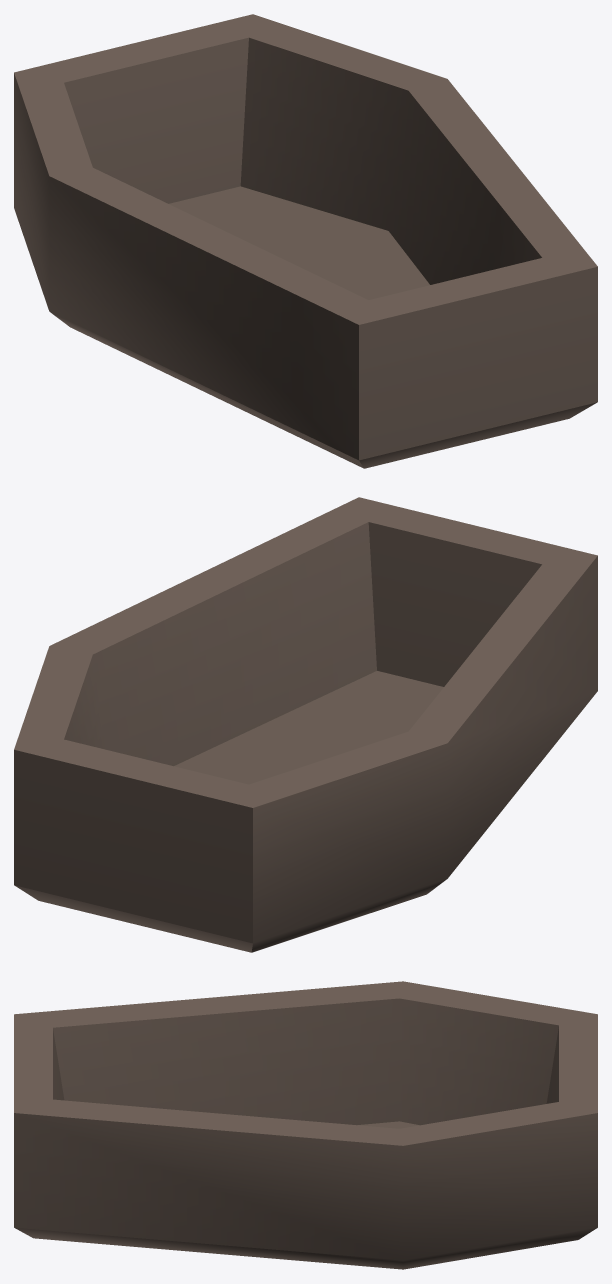
Rendered from coffin.obj.
3 views of the same model, one above another, from view 1: azimuth 30°, elevation 25°; view 2: azimuth 150°, elevation 25°; view 3: azimuth 270°, elevation 25° (orthographic). The views are drawn at different scales.
Parts seen in each view (by area): view 1: coffin_Cube.118; view 2: coffin_Cube.118; view 3: coffin_Cube.118.
Part boxes in pixels (x1,y1,x2,y2): coffin_Cube.118: (14,14,597,468); coffin_Cube.118: (14,497,597,952); coffin_Cube.118: (14,981,597,1269).
Size of the model in its own units: 2 by 0.75 by 3.
Materials: 1 (1 with a texture image).
